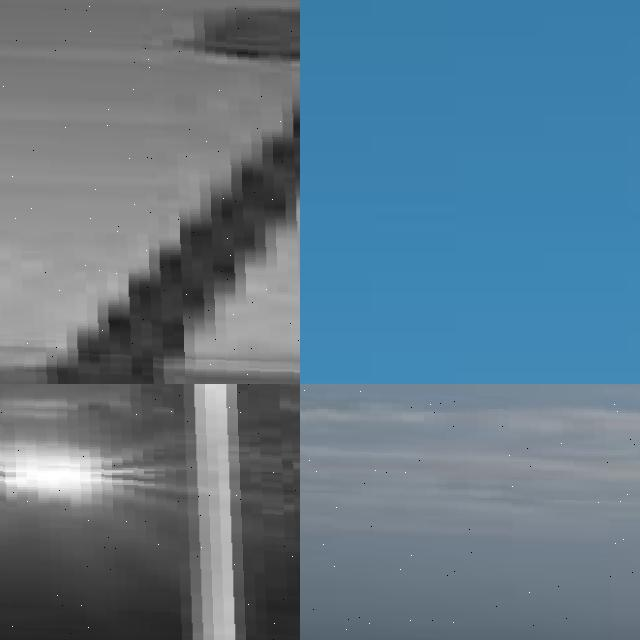street light: (0, 0, 300, 384), (300, 384, 640, 640), (0, 384, 300, 640), (0, 455, 97, 640)
